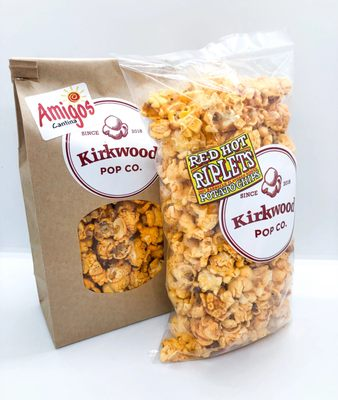sandwich: (77, 199, 165, 295)
